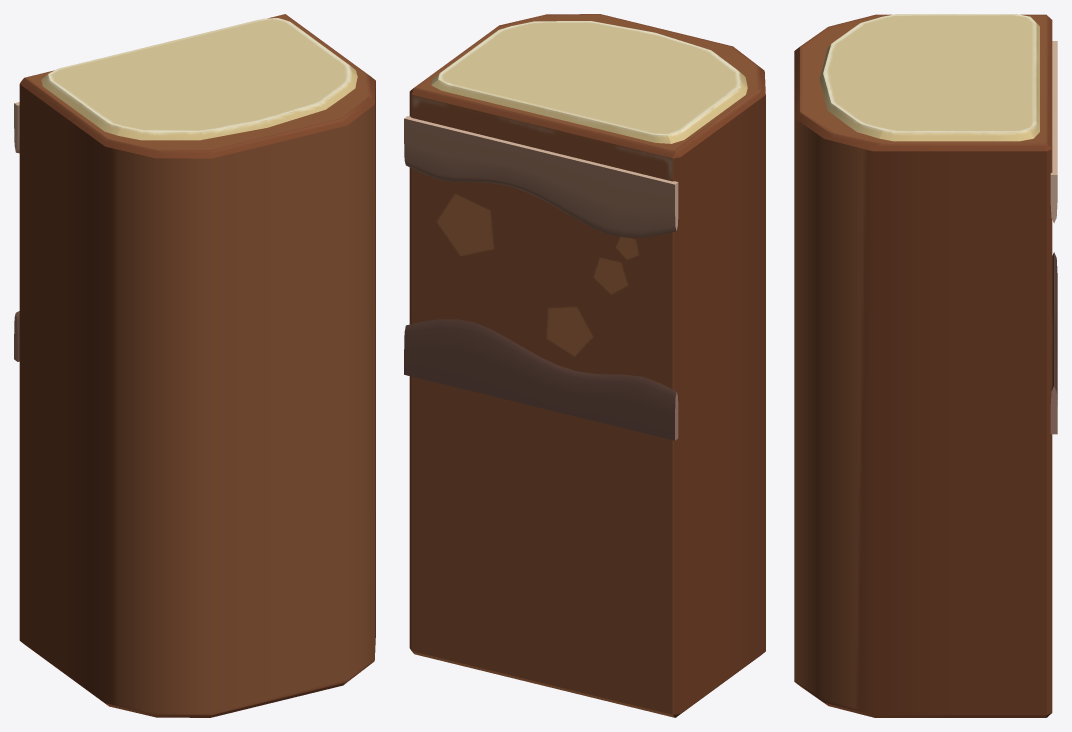
The model's file is S1_InF_Wall_001.fbx.
3 renders of one model, left to right at view 1: azimuth 30°, elevation 25°; view 2: azimuth 150°, elevation 25°; view 3: azimuth 270°, elevation 25°, orthographic.
Visible parts, largest first — view 1: wall16_pCube2; view 2: wall16_pCube2; view 3: wall16_pCube2.
Part boxes in pixels (left/top/right/bottom): wall16_pCube2: left=14, top=14, right=375, bottom=717; wall16_pCube2: left=404, top=14, right=765, bottom=717; wall16_pCube2: left=794, top=14, right=1057, bottom=717.
Bounding box in the file's own units: 1 × 2.02 × 0.8313.
